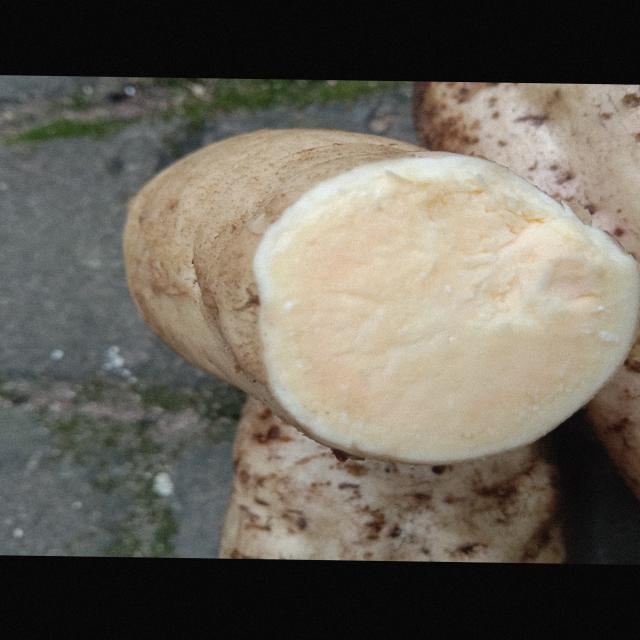Healthy Sweet Potato: (253, 156, 638, 464)
